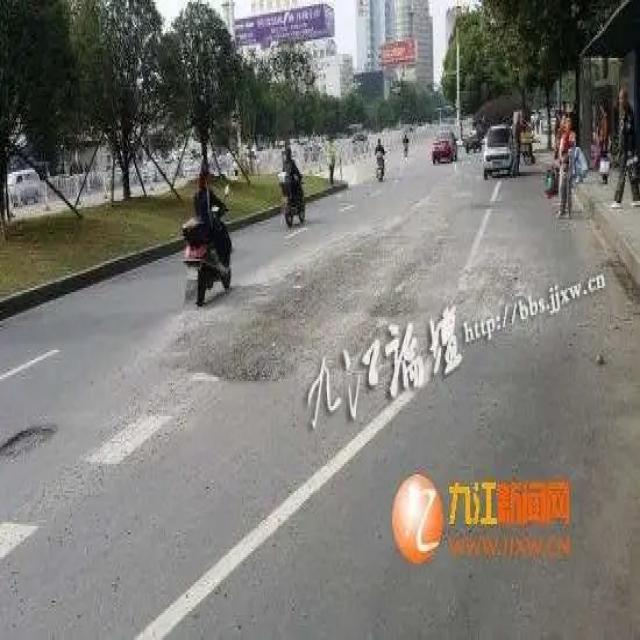Pothole: (195, 325, 302, 379), (0, 422, 55, 462)
